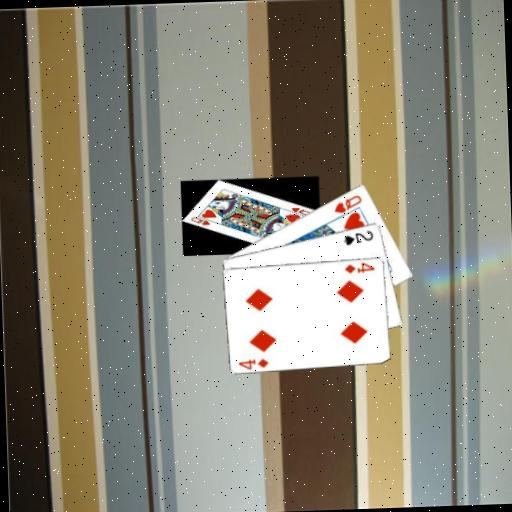2S: (340, 226, 375, 246)
4D: (341, 259, 377, 275), (236, 355, 270, 370)
QH: (330, 192, 363, 215)
